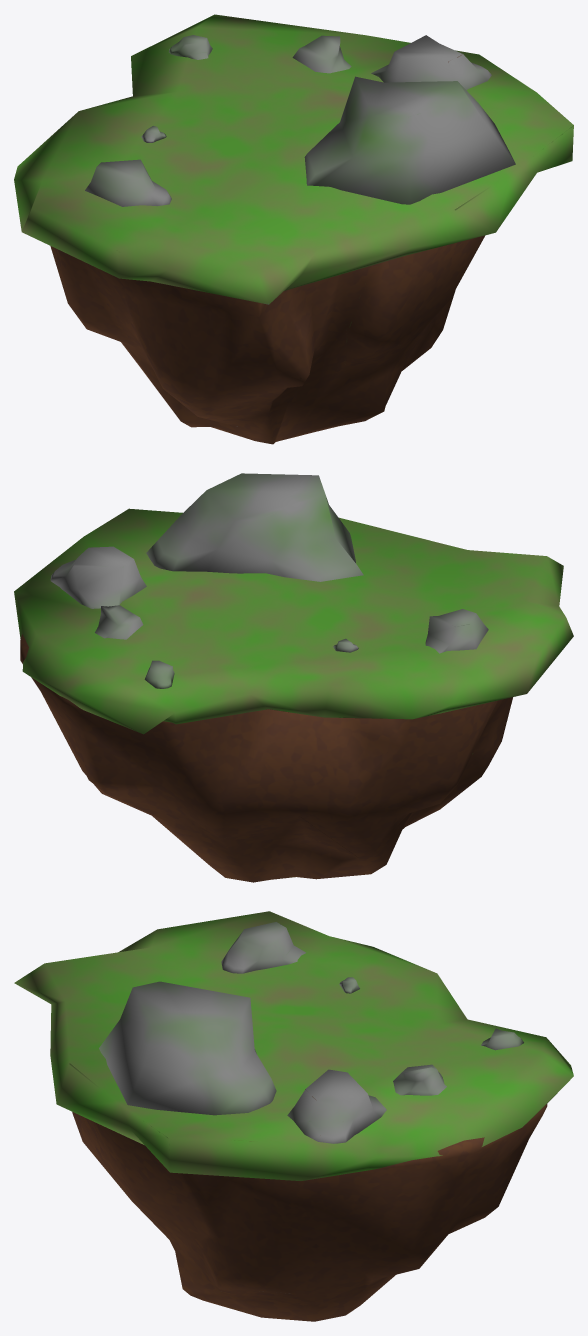
Rendered from island2.fbx.
3 renders of one model, top to bottom at view 1: azimuth 30°, elevation 25°; view 2: azimuth 150°, elevation 25°; view 3: azimuth 270°, elevation 25°, orthographic. The views are drawn at different scales.
Visible parts, largest first — view 1: Island2; view 2: Island2; view 3: Island2.
Part boxes in pixels (x1,y1,x2,y2): Island2: (14, 14, 573, 444); Island2: (14, 473, 573, 882); Island2: (14, 911, 573, 1321).
Size of the model in its own units: 284 by 183 by 284.
1 material, 1 textured.
